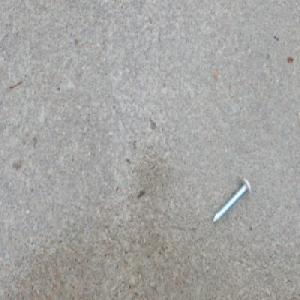Nail: (211, 175, 251, 224)
